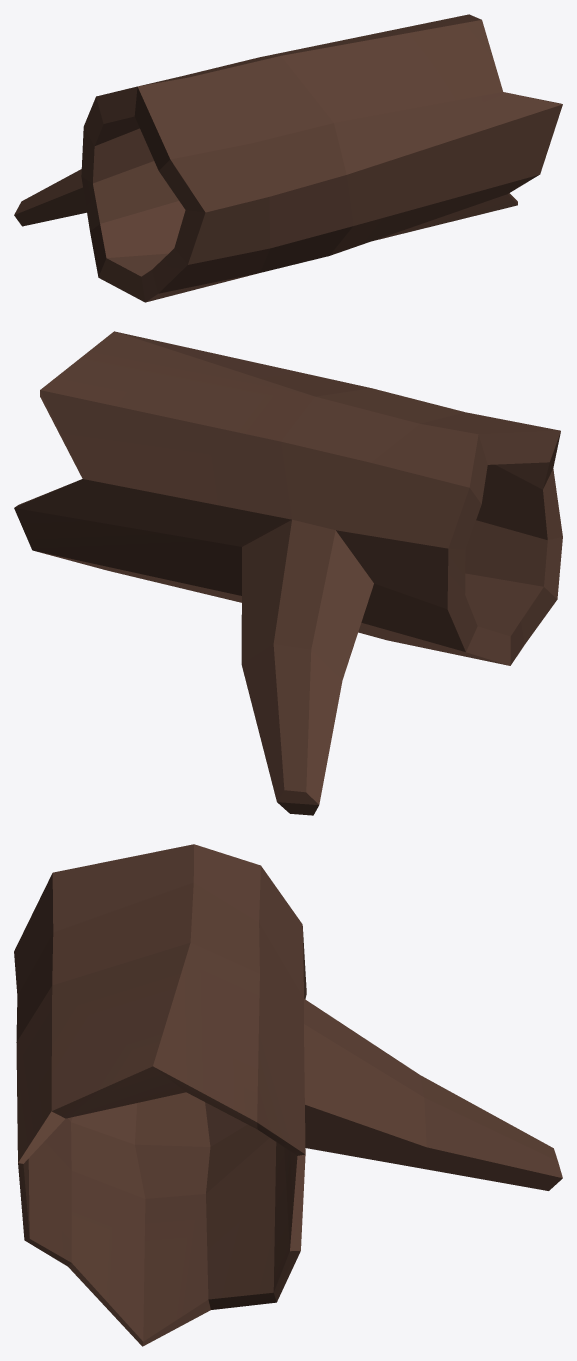
Rendered from 2. Gigant Fall Tree (ver 2 - Cima).fbx.
The picture shows the model from 3 angles, top to bottom: view 1: azimuth 30°, elevation 25°; view 2: azimuth 150°, elevation 25°; view 3: azimuth 270°, elevation 25°; orthographic projection. The views are drawn at different scales.
Parts seen in each view (by area): view 1: 2. Gigant Fall Tree (ver 2 - Cima); view 2: 2. Gigant Fall Tree (ver 2 - Cima); view 3: 2. Gigant Fall Tree (ver 2 - Cima).
Boxes of the visible parts, <box> form: 2. Gigant Fall Tree (ver 2 - Cima): <box>14,14,562,302</box>; 2. Gigant Fall Tree (ver 2 - Cima): <box>14,331,562,815</box>; 2. Gigant Fall Tree (ver 2 - Cima): <box>14,844,562,1346</box>.
Bounding box in the file's own units: 489 × 284 × 433.
